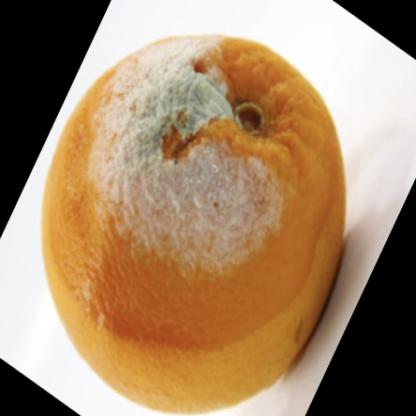rotten: (44, 34, 348, 416)
